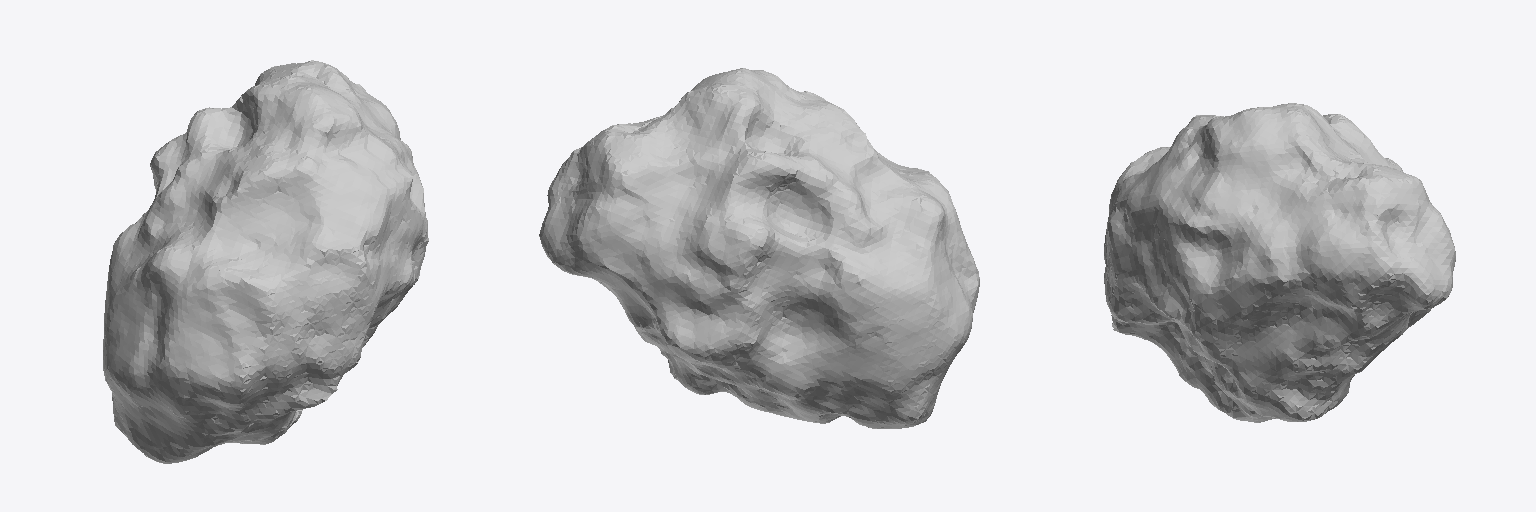
The model's file is meteoro.obj.
3 views of the same model, side by side, from view 1: azimuth 30°, elevation 25°; view 2: azimuth 150°, elevation 25°; view 3: azimuth 270°, elevation 25° (orthographic).
Visible parts, largest first — view 1: ASTEROID_LOW_POLY_4__asteroid_04; view 2: ASTEROID_LOW_POLY_4__asteroid_04; view 3: ASTEROID_LOW_POLY_4__asteroid_04.
Part boxes in pixels (bbox=[...]): ASTEROID_LOW_POLY_4__asteroid_04: bbox=[103, 60, 428, 463]; ASTEROID_LOW_POLY_4__asteroid_04: bbox=[539, 68, 979, 428]; ASTEROID_LOW_POLY_4__asteroid_04: bbox=[1104, 103, 1455, 422].
Bounding box in the file's own units: 1.56 × 1.47 × 1.41.